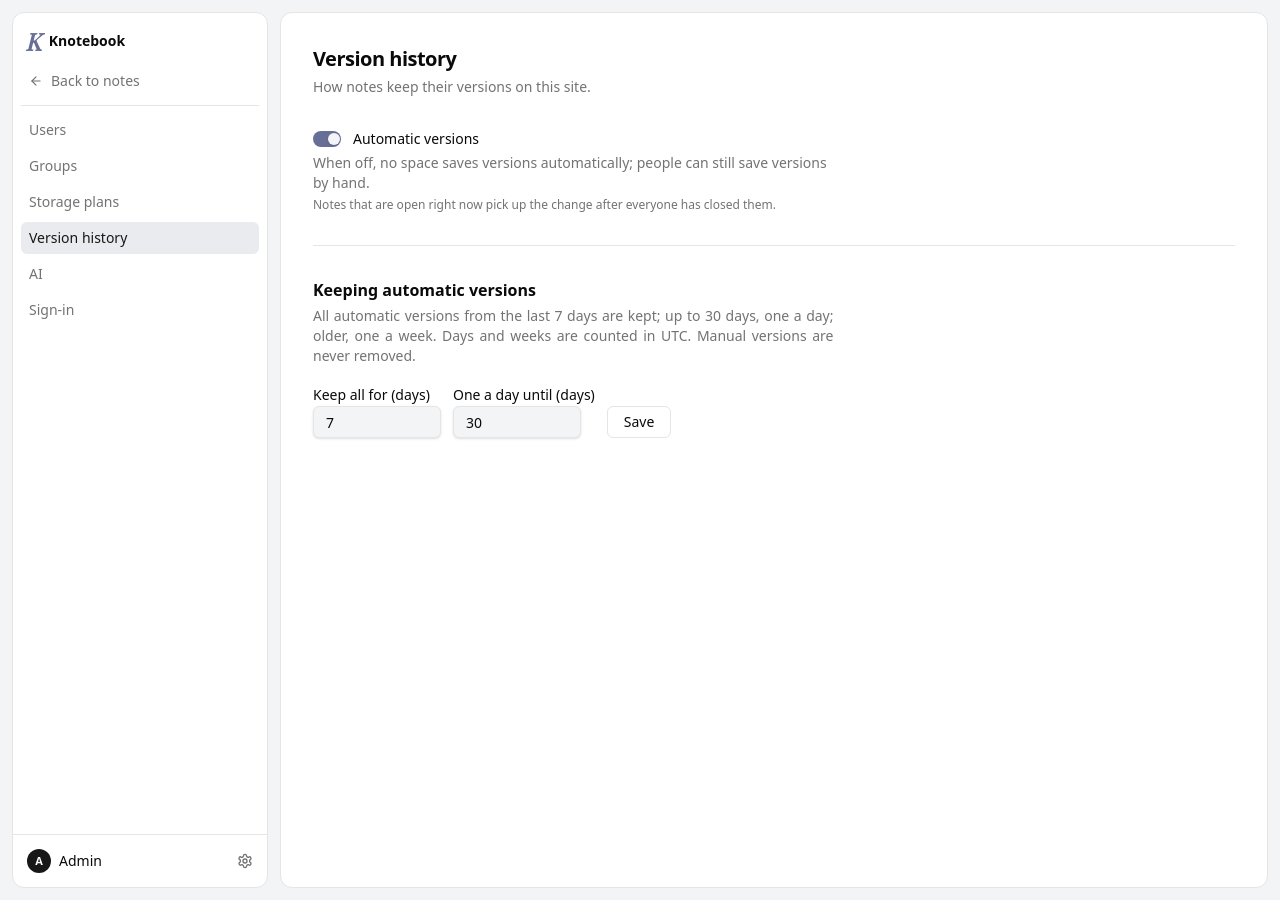
Test: SettingsVersionsSection（/admin/versions，spec §6.7、§8.5） › server 回 400 invalid_body → 行內 errors.invalid_body
Replace the text in the field labelled "Keep all for (days)" with "8" at (377, 422), box [313,406,441,438]
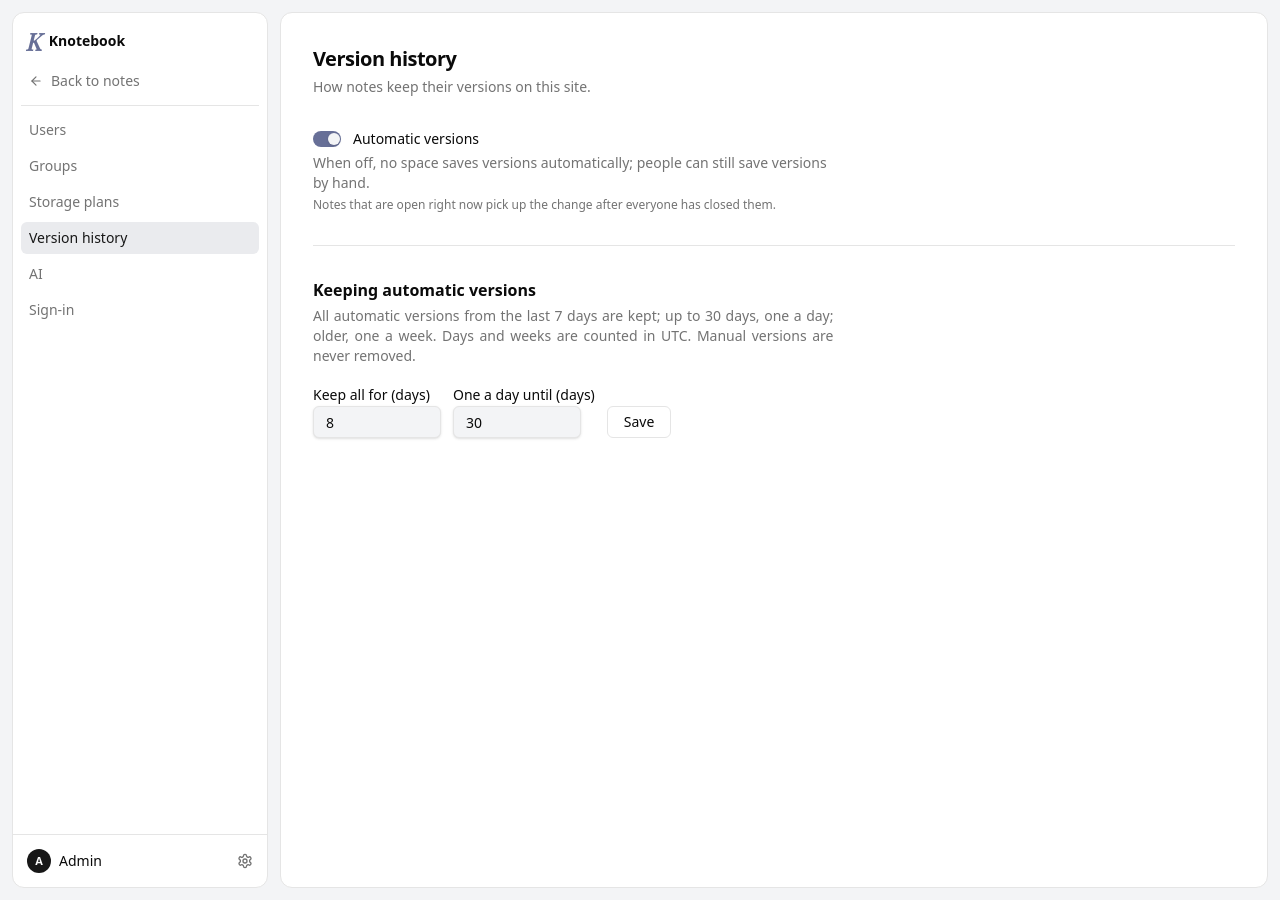
Click the button "Save" at (639, 422), box [607,406,671,438]
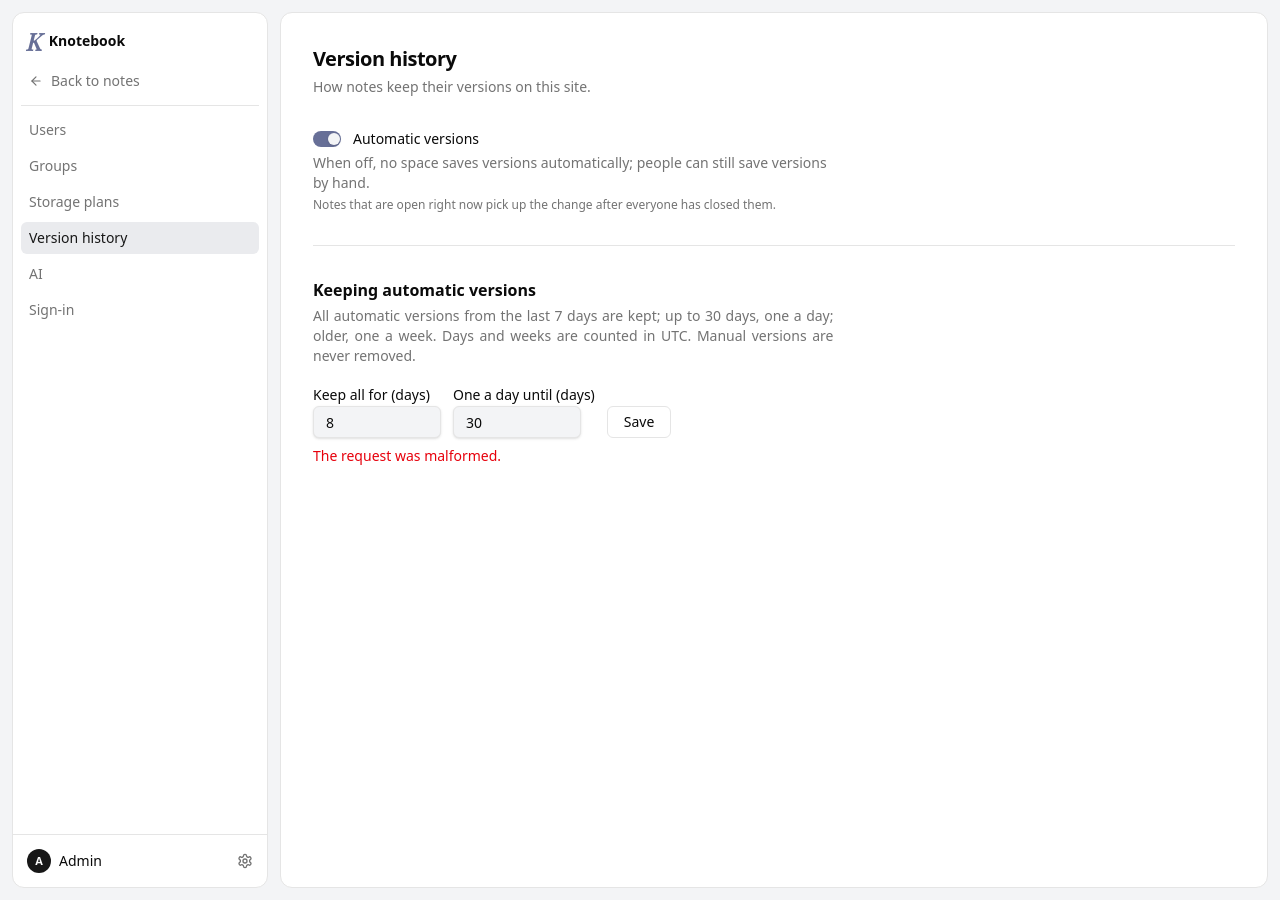
Result: the message reads "The request was malformed." at [313,446,501,465]
